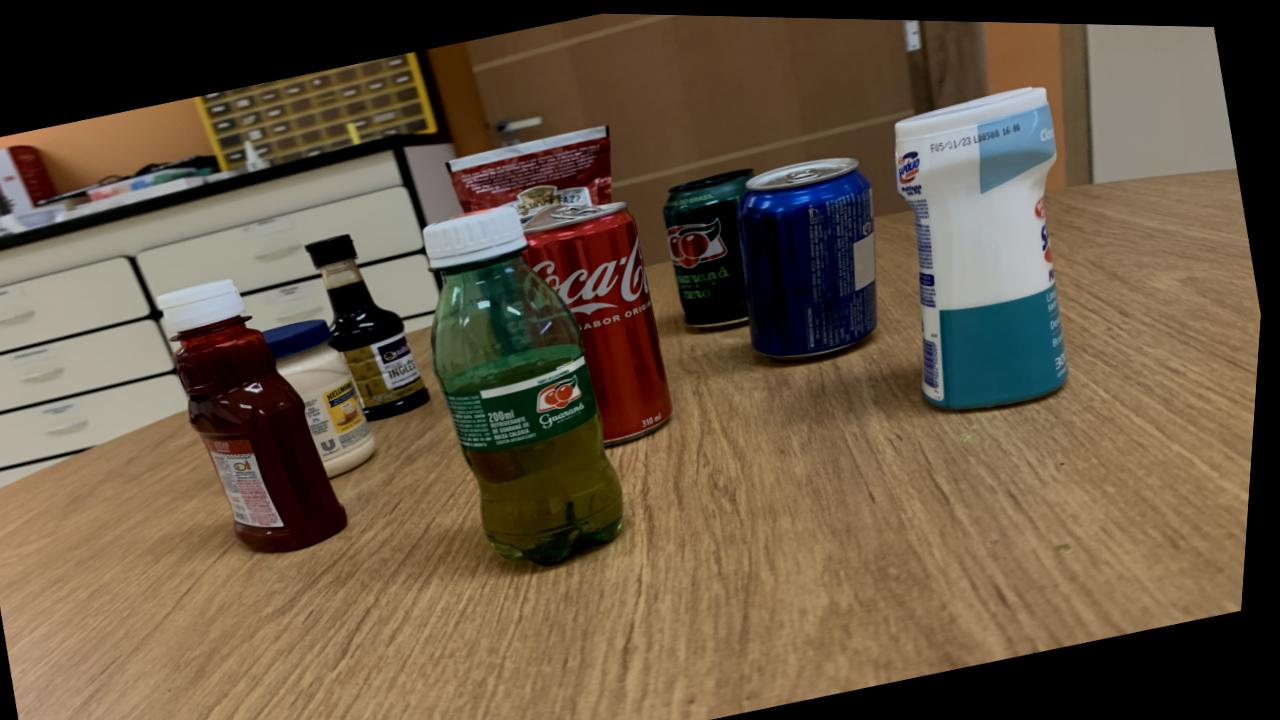Cleaner-Cleanup_Items: (896, 82, 1073, 404)
Coke-Drinks: (526, 198, 678, 442)
English_Sauce-Pantry_Items: (309, 232, 434, 419)
Guarana-Drinks: (428, 205, 630, 561)
Guarana_Can-Drinks: (666, 165, 755, 325)
Ketchup-Pantry_Items: (161, 278, 354, 551)
Mayonnaise-Pantry_Items: (269, 318, 381, 475)
Tomato_Sauce-Pantry_Items: (451, 123, 615, 216)
Tonic-Drinks: (739, 153, 882, 357)
